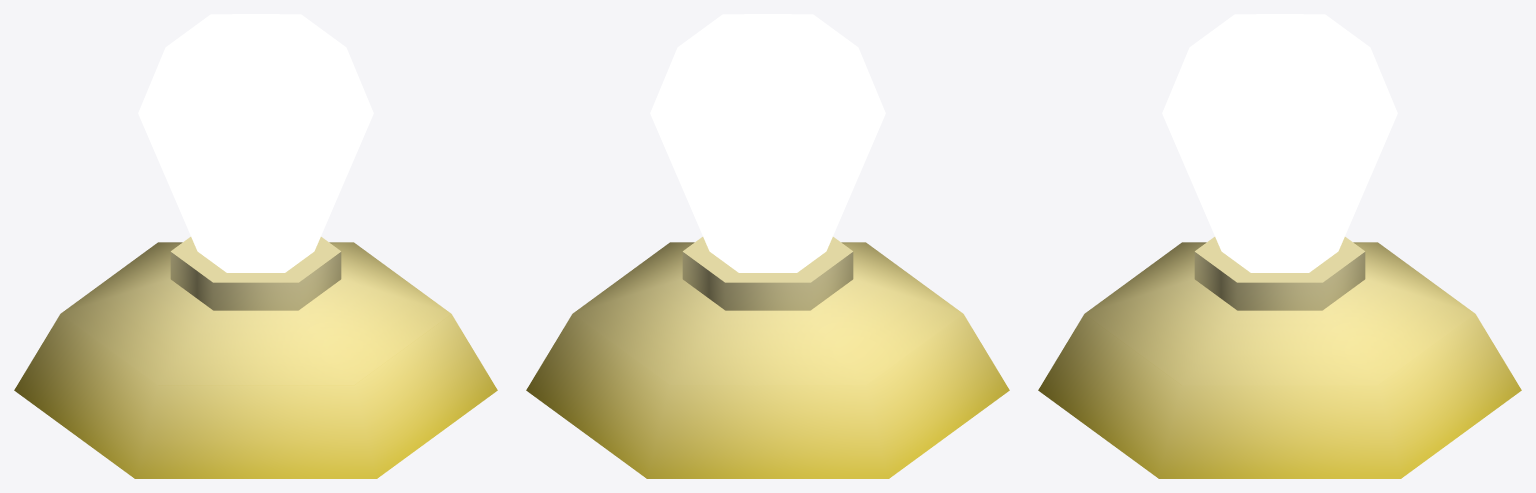
The model's file is Focus.fbx.
The picture shows the model from 3 angles, left to right: view 1: azimuth 30°, elevation 25°; view 2: azimuth 150°, elevation 25°; view 3: azimuth 270°, elevation 25°; orthographic projection.
Parts seen in each view (by area): view 1: Focus; view 2: Focus; view 3: Focus.
Part boxes in pixels (box(x1,y1,x2,y2)): Focus: box(14, 14, 497, 478); Focus: box(526, 14, 1009, 478); Focus: box(1038, 14, 1521, 478).
Size of the model in its own units: 25.14 by 24.93 by 29.03.
